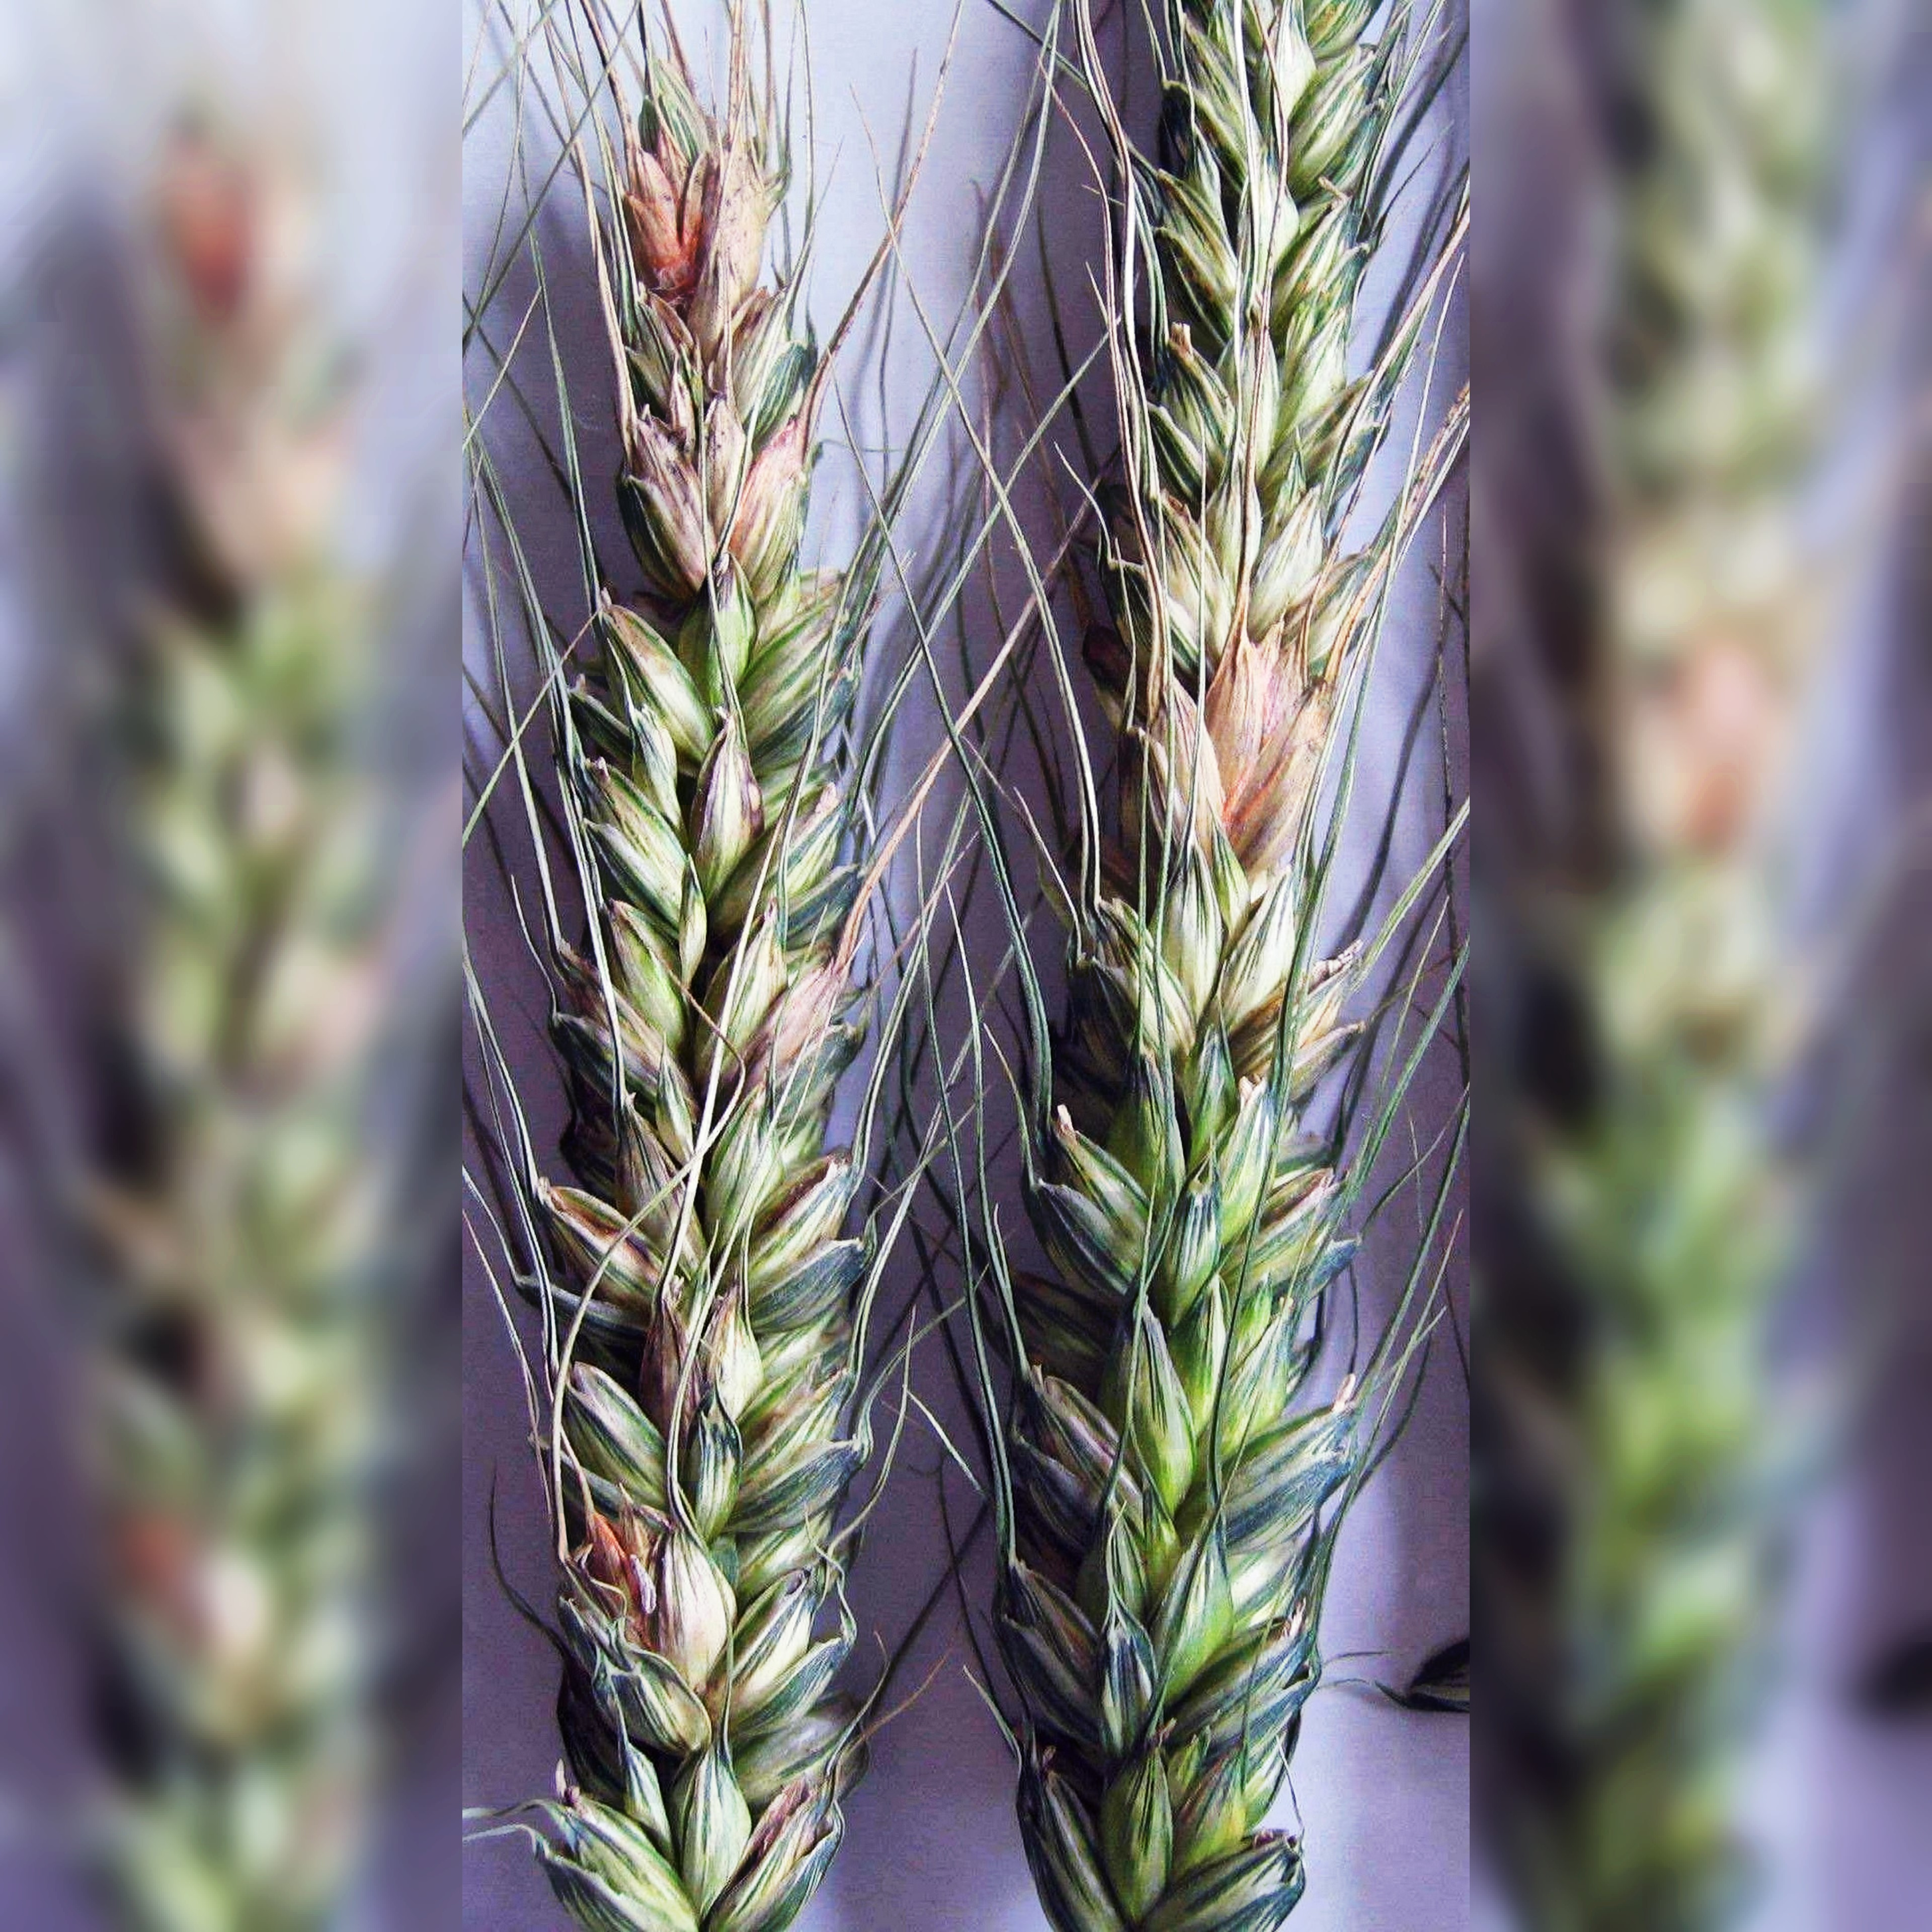Wheat scab: (531, 83, 899, 1210)
